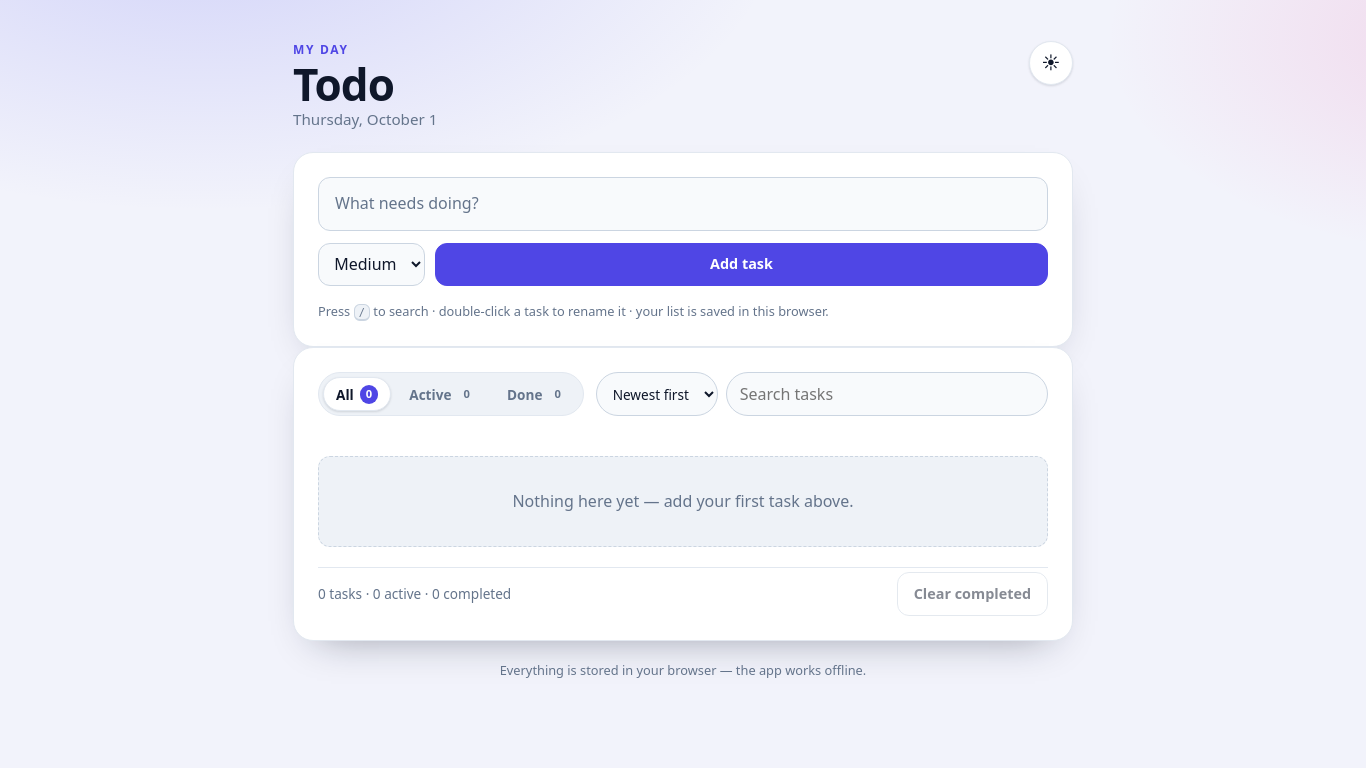
Todo app › adds a task and reports the counts
Type "Buy milk" into the field named "Task description". click: (683, 204)
box: [318,176,1048,230]
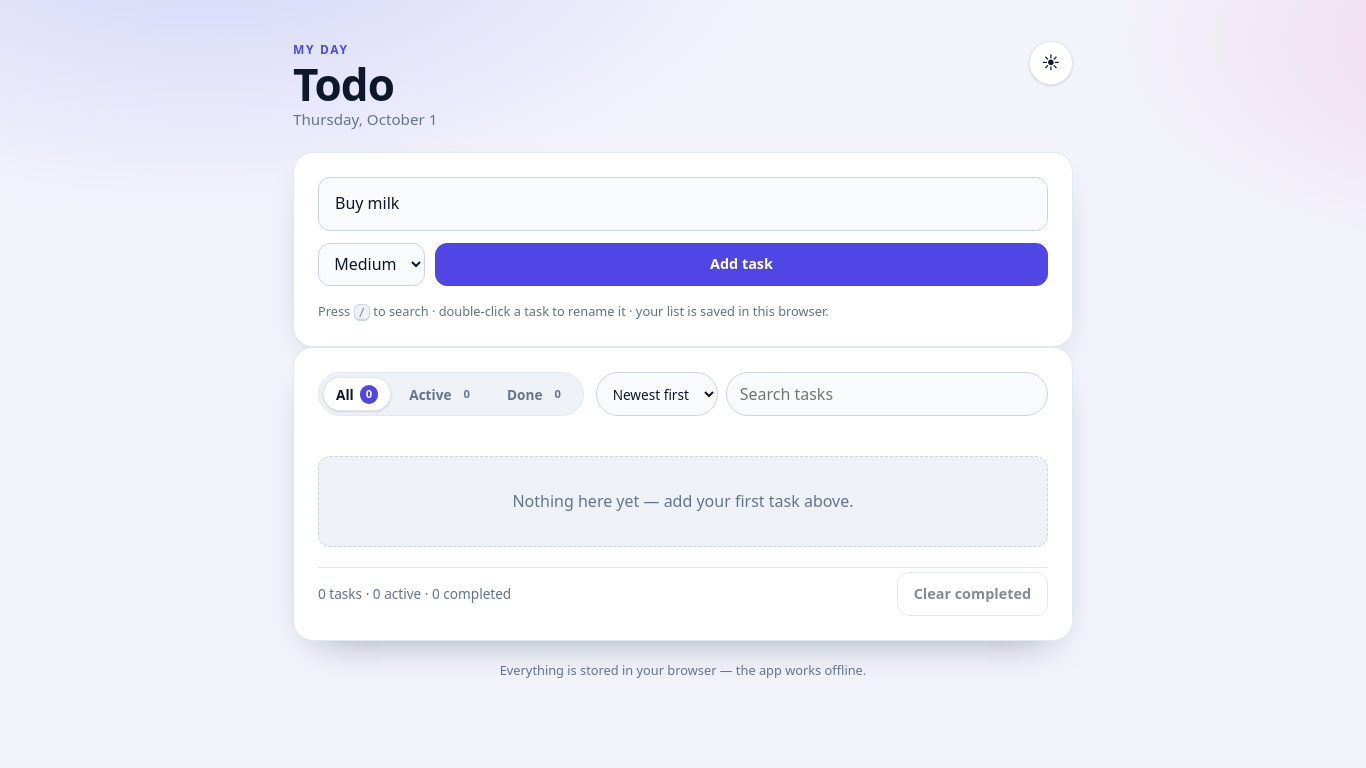
Click the button "Add task". click: (742, 264)
box: [435,242,1048,286]
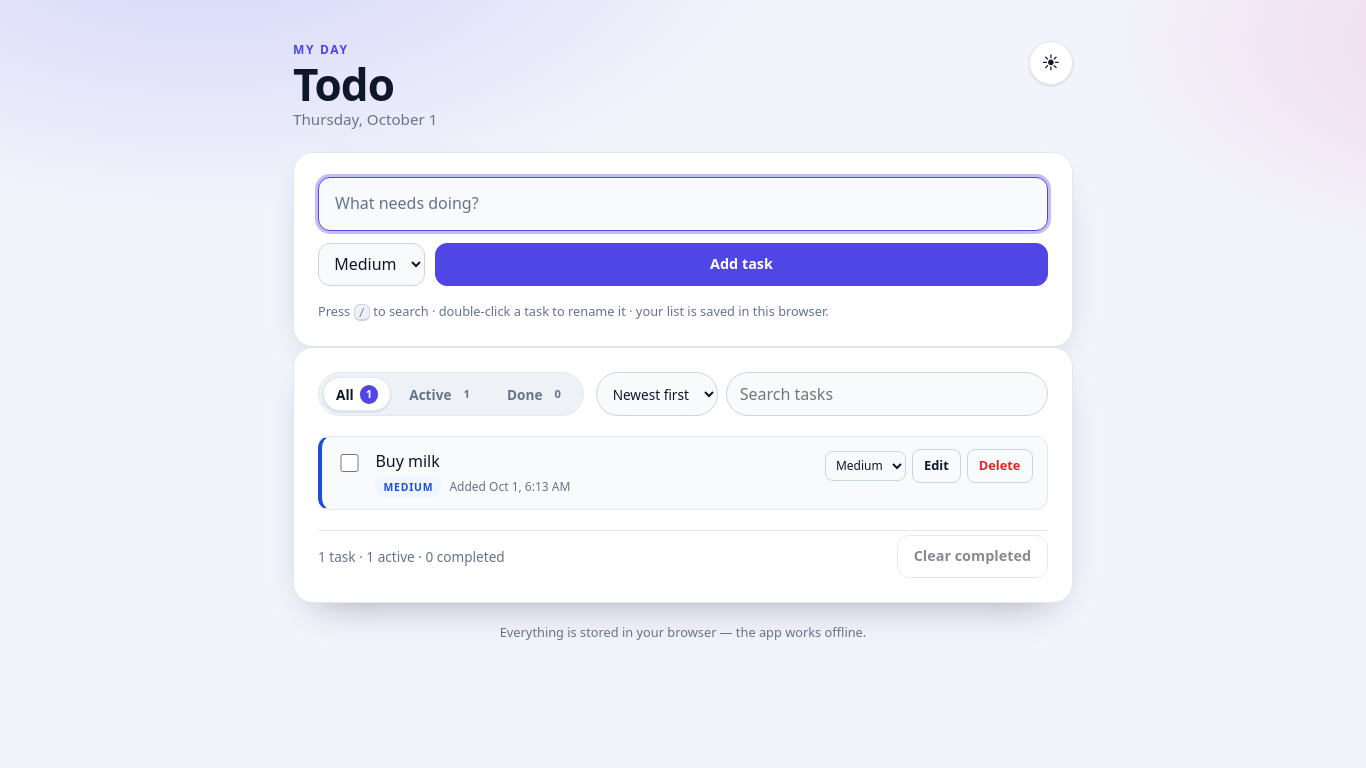
Expected: the text with id "status" reads "1 task · 1 active · 0 completed", [318,547,505,566]
